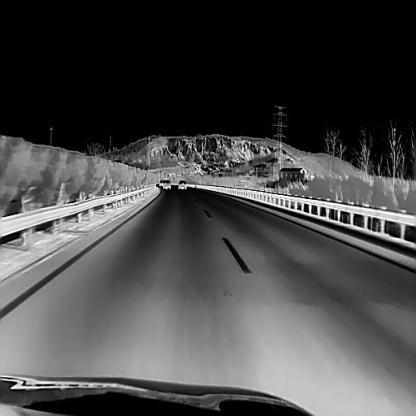car: (177, 179, 186, 188), (163, 179, 171, 189), (158, 179, 163, 185)
